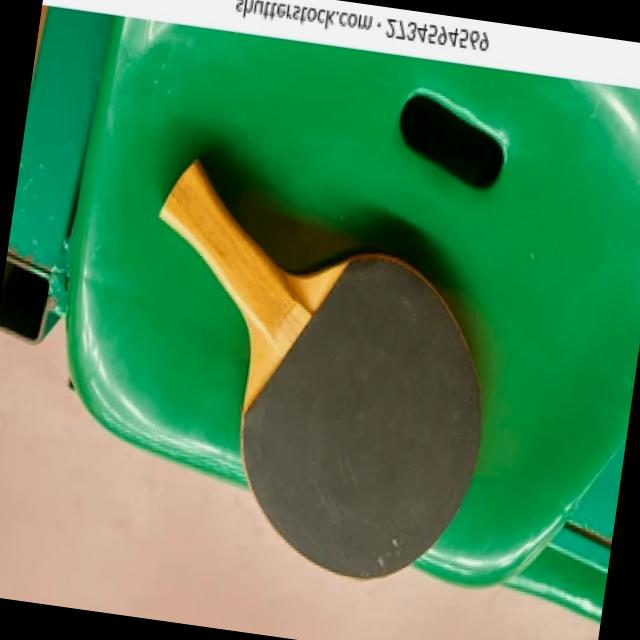TT Racket: (109, 146, 602, 638)
